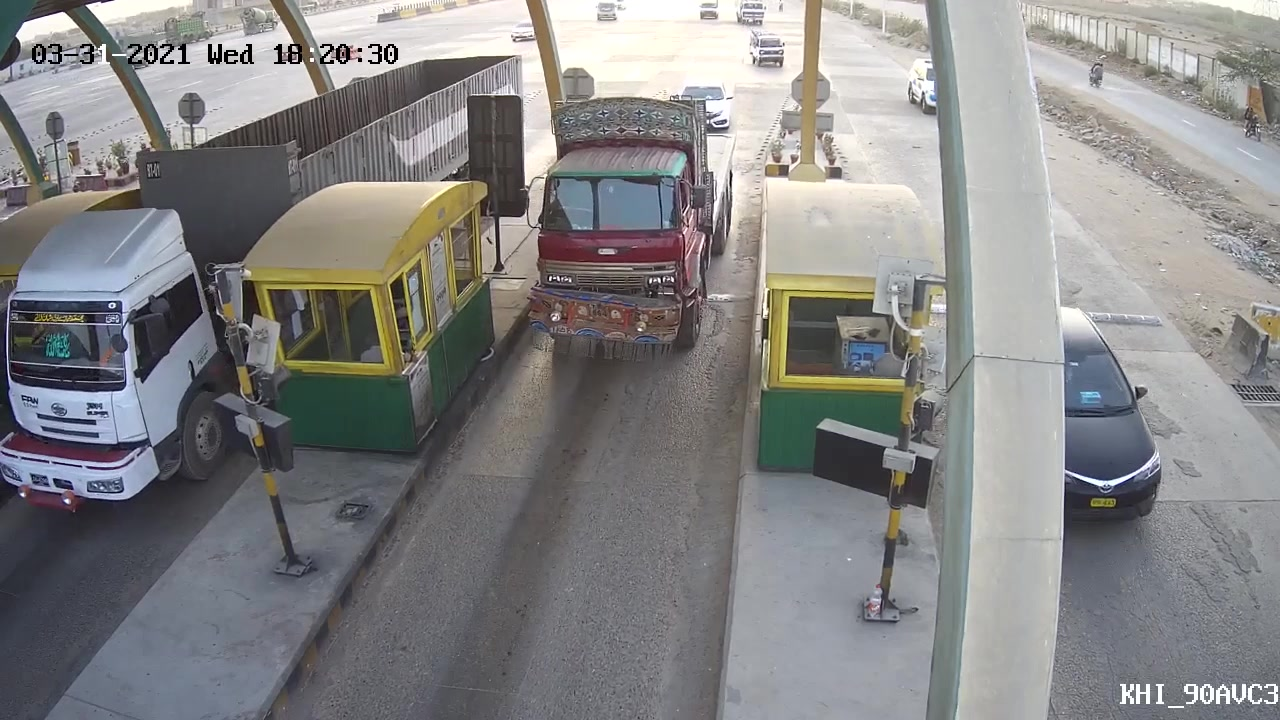F6: (516, 93, 741, 364)
